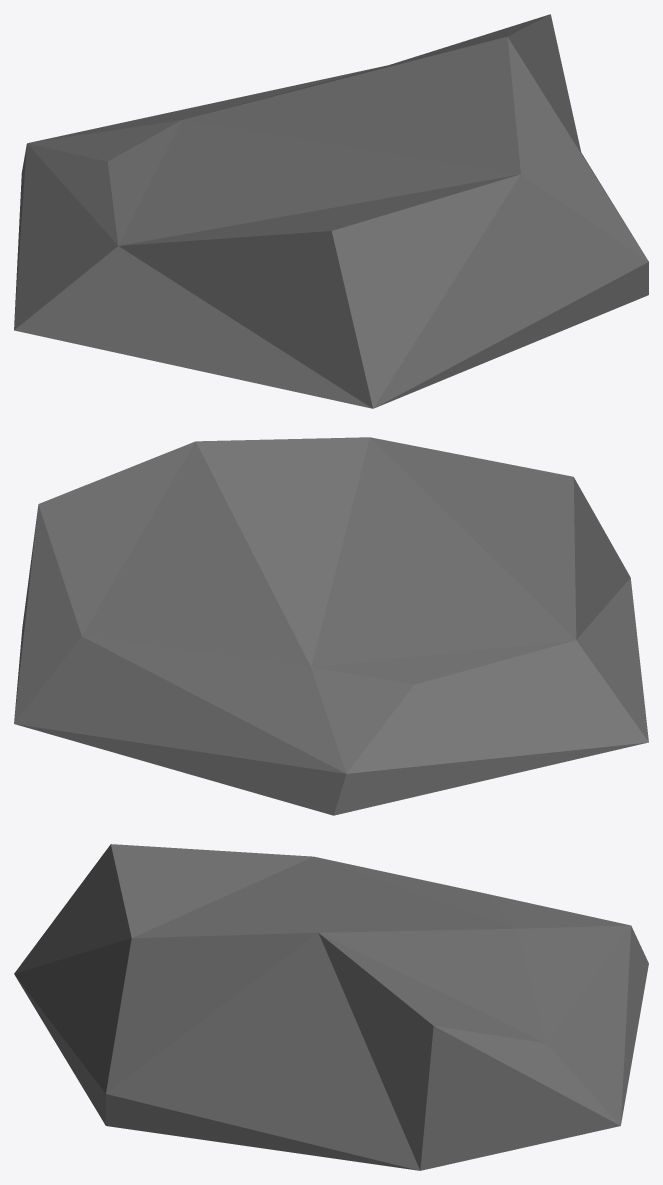
File: Stone_A_12.FBX
The picture shows the model from 3 angles, top to bottom: view 1: azimuth 30°, elevation 25°; view 2: azimuth 150°, elevation 25°; view 3: azimuth 270°, elevation 25°; orthographic projection. The views are drawn at different scales.
Visible parts, largest first — view 1: Stone_A_12; view 2: Stone_A_12; view 3: Stone_A_12.
Part boxes in pixels (x1,y1,x2,y2): Stone_A_12: (14, 14, 648, 408); Stone_A_12: (14, 437, 648, 815); Stone_A_12: (14, 844, 648, 1170).
Bounding box in the file's own units: 3.01 × 0.8771 × 2.83.
